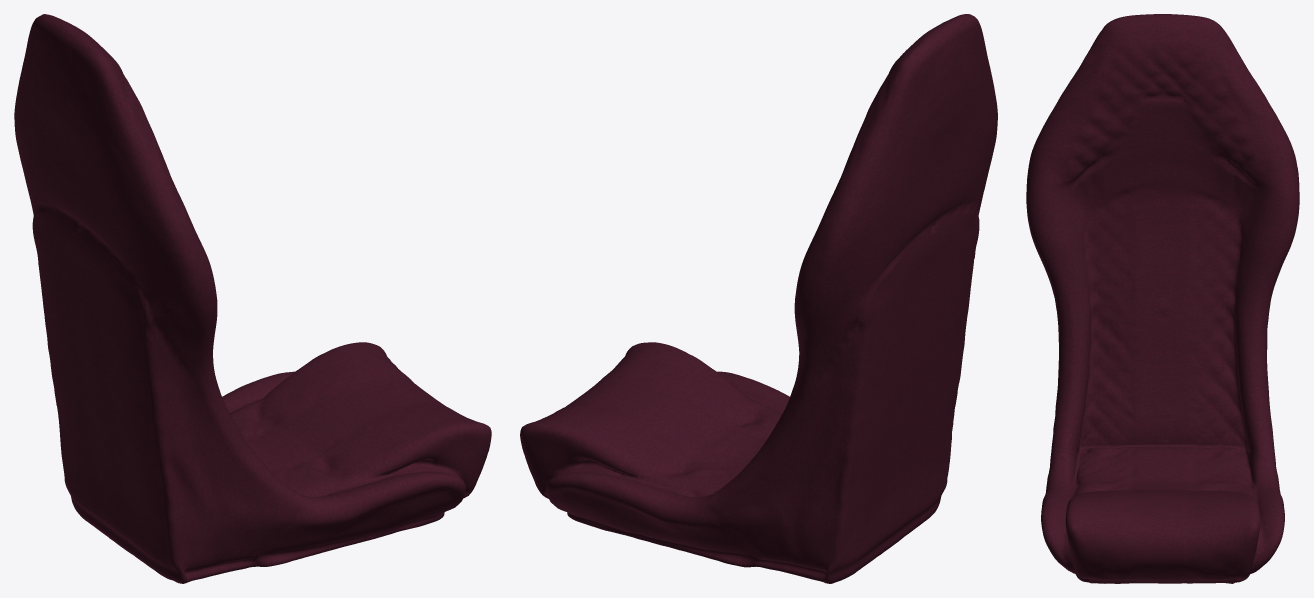
Rendered from banco_concha_a.glb.
3 renders of one model, left to right at view 1: azimuth 30°, elevation 25°; view 2: azimuth 150°, elevation 25°; view 3: azimuth 270°, elevation 25°, orthographic. The views are drawn at different scales.
Visible parts, largest first — view 1: tripo_node_7c2da573-72f9-404b-83e1-f23436fd9833.001_4; view 2: tripo_node_7c2da573-72f9-404b-83e1-f23436fd9833.001_4; view 3: tripo_node_7c2da573-72f9-404b-83e1-f23436fd9833.001_4.
Part boxes in pixels (x1,y1,x2,y2): tripo_node_7c2da573-72f9-404b-83e1-f23436fd9833.001_4: (14, 14, 491, 583); tripo_node_7c2da573-72f9-404b-83e1-f23436fd9833.001_4: (520, 14, 997, 583); tripo_node_7c2da573-72f9-404b-83e1-f23436fd9833.001_4: (1026, 14, 1299, 583).
Bounding box in the file's own units: 0.7497 × 1 × 0.5671.
Materials: 1 (1 with a texture image).
